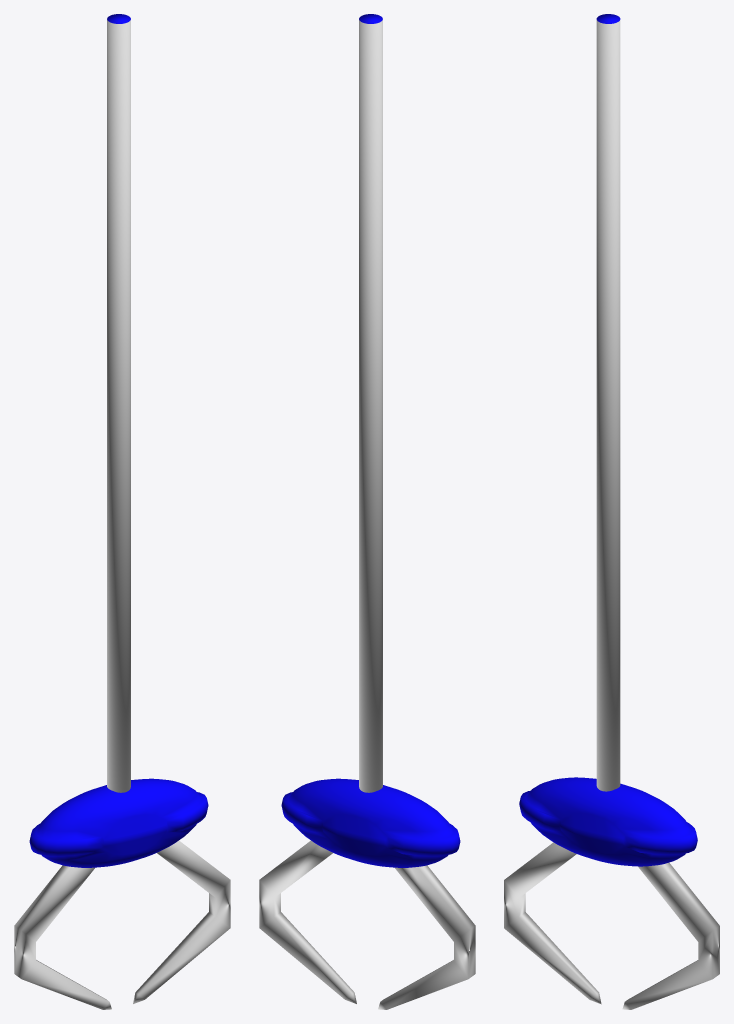
Rendered from Ufopince.fbx.
The picture shows the model from 3 angles, left to right: view 1: azimuth 30°, elevation 25°; view 2: azimuth 150°, elevation 25°; view 3: azimuth 330°, elevation 25°; orthographic projection.
Parts seen in each view (by area): view 1: Pince; view 2: Pince; view 3: Pince.
Part boxes in pixels (left/top/right/bottom): Pince: left=14, top=14, right=230, bottom=1009; Pince: left=259, top=14, right=475, bottom=1009; Pince: left=504, top=14, right=719, bottom=1009.
Bounding box in the file's own units: 23.17 × 105 × 7.03.
